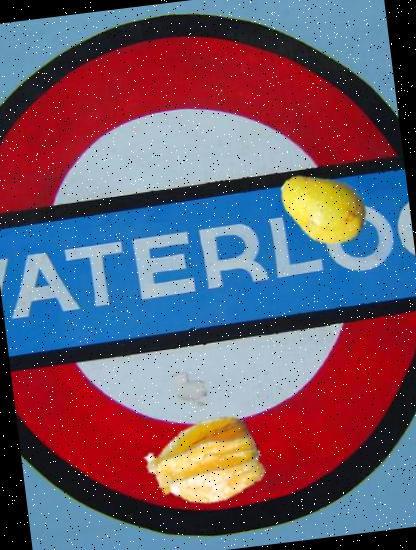Pear: (272, 156, 372, 256)
Physalis: (142, 404, 266, 526)
